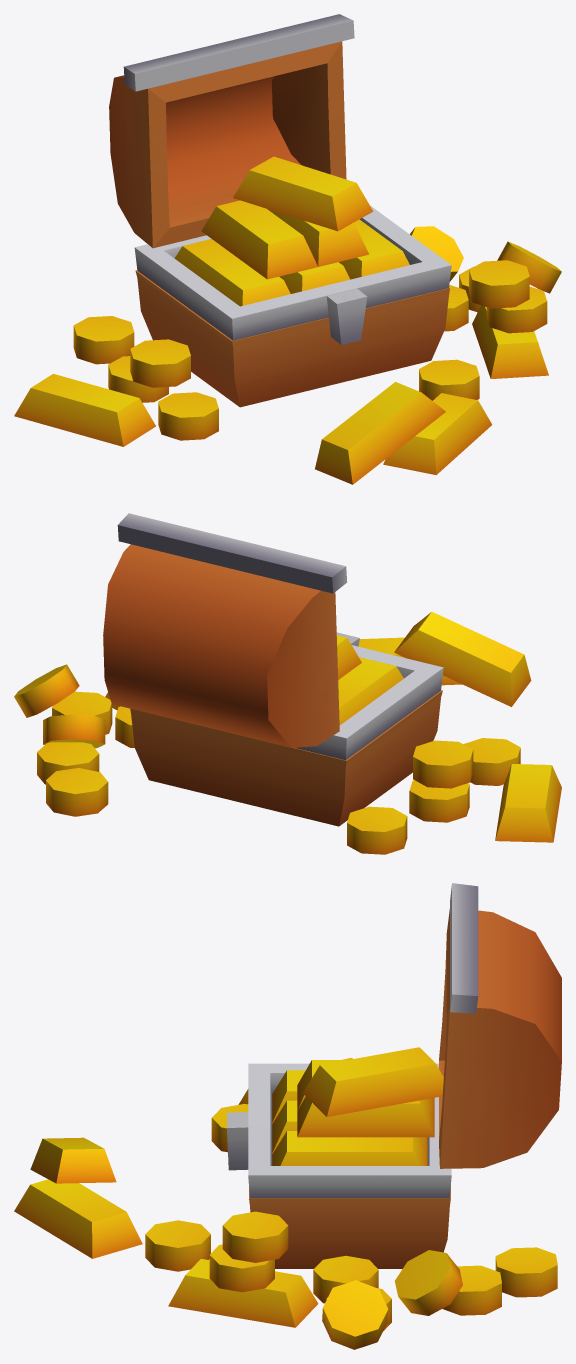
The model's file is SM_Chest.fbx.
3 views of the same model, one above another, from view 1: azimuth 30°, elevation 25°; view 2: azimuth 150°, elevation 25°; view 3: azimuth 270°, elevation 25° (orthographic). The views are drawn at different scales.
Visible parts, largest first — view 1: SM_Chest; view 2: SM_Chest; view 3: SM_Chest.
Boxes of the visible parts, x1,y1,x2,y2 form: SM_Chest: [14, 14, 561, 484]; SM_Chest: [14, 513, 561, 854]; SM_Chest: [14, 883, 561, 1349].
Size of the model in its own units: 8.13 by 3.88 by 6.84.
